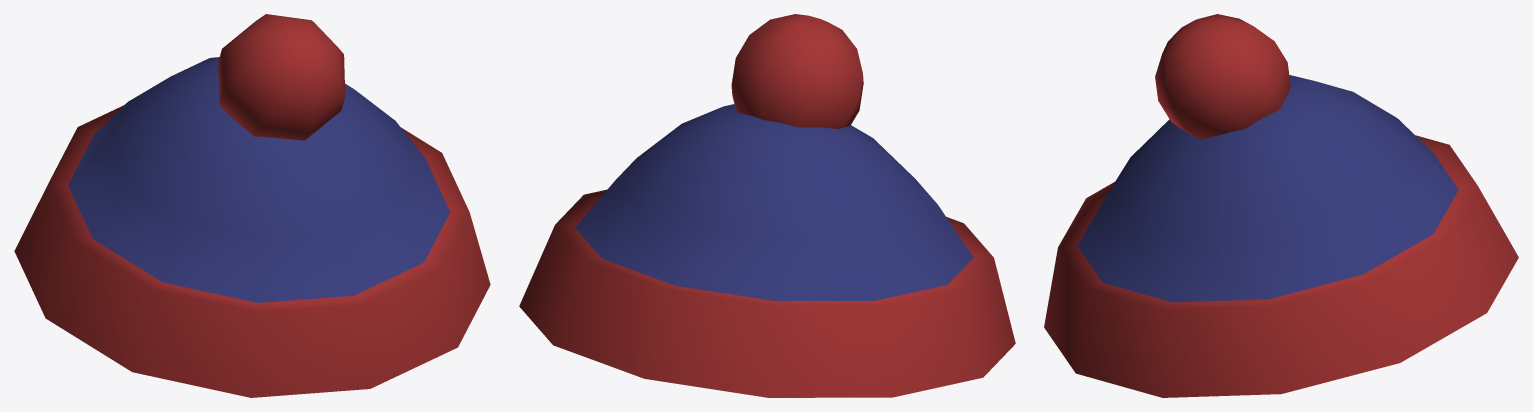
File: hat_pufftoque.glb
3 views of the same model, side by side, from view 1: azimuth 30°, elevation 25°; view 2: azimuth 150°, elevation 25°; view 3: azimuth 270°, elevation 25° (orthographic). The views are drawn at different scales.
Parts seen in each view (by area): view 1: hat_pufftoque; view 2: hat_pufftoque; view 3: hat_pufftoque.
Boxes of the visible parts, left/top/right/bottom form: hat_pufftoque: left=14, top=14, right=490, bottom=397; hat_pufftoque: left=519, top=14, right=1015, bottom=397; hat_pufftoque: left=1044, top=14, right=1518, bottom=397.
Size of the model in its own units: 0.4772 by 0.3364 by 0.471.
